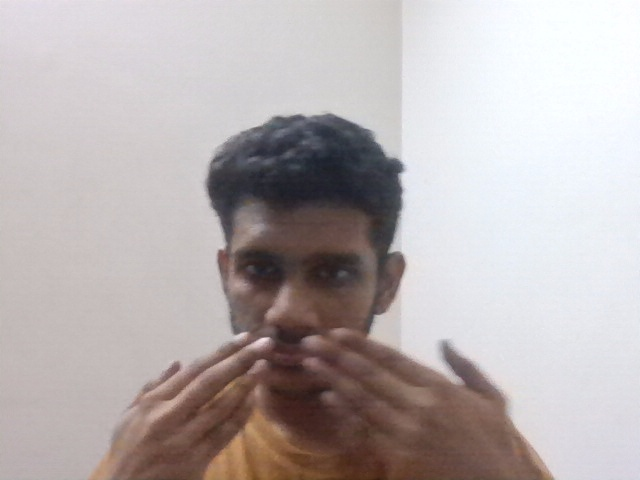thanks: (92, 323, 547, 469)
